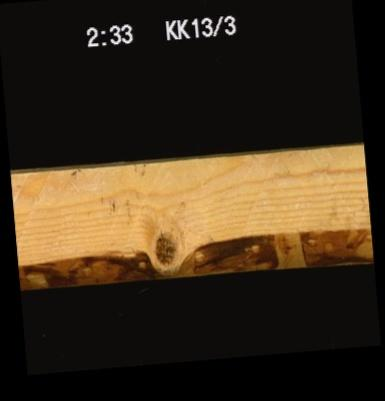sound_knot: (152, 232, 181, 264)
wave: (193, 228, 370, 268), (18, 245, 162, 287)
